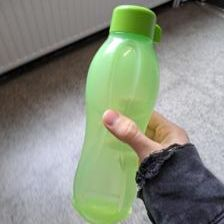bottle: (70, 3, 164, 223)
